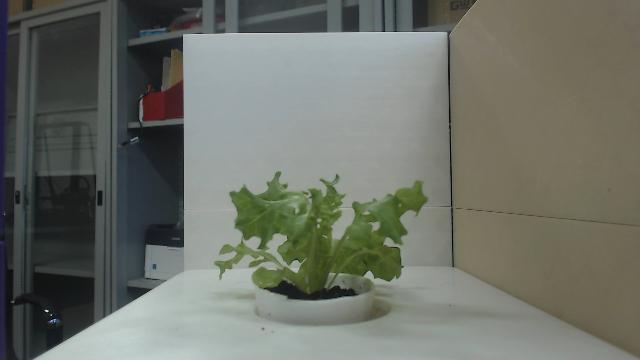Vegetative Stage: (215, 170, 428, 298)
